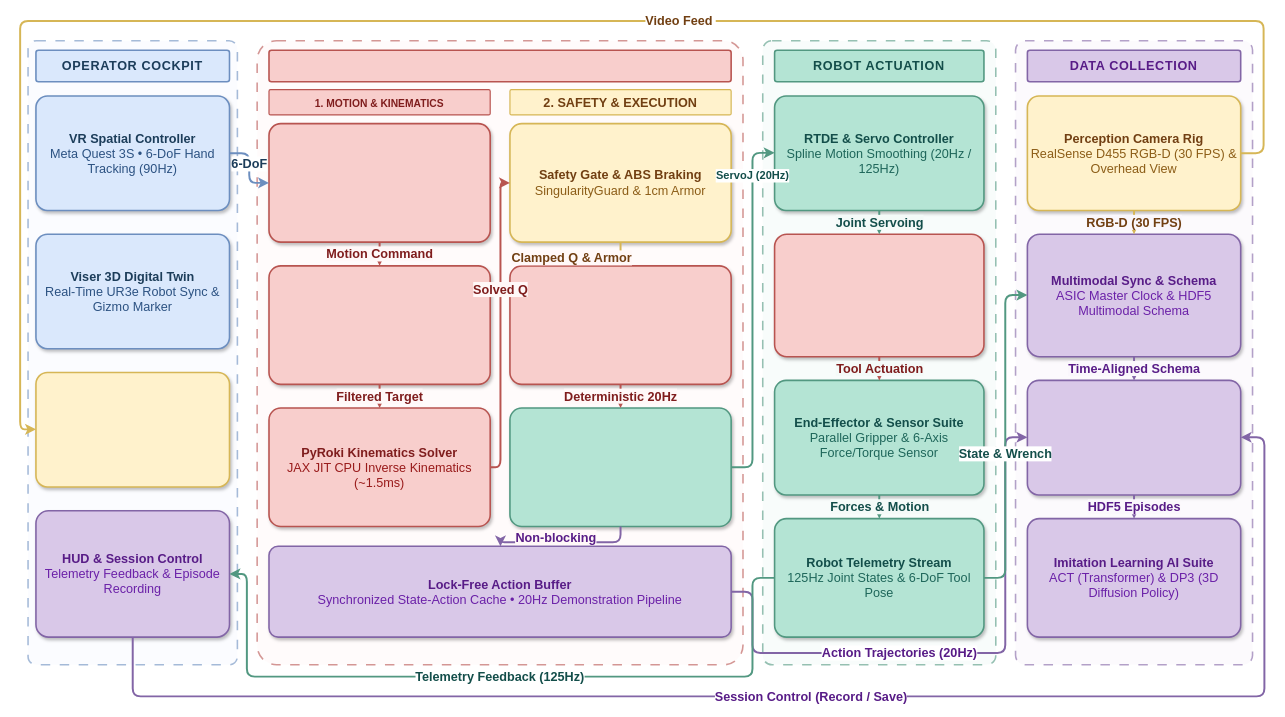
This 1285x717 diagram has some shape labels left out. Here are the shapes that lost their labels. From the top down, the centre of each, then its label:
At (500,65): "TELEOPERATION ENGINE (REAL-TIME CORE)".
At (380,183): "Hand Motion Controller Independent Move & Rotate Control".
At (879,296): "UR3e Collaborative Arm 6-Axis Manipulator • 3kg Payload • 500mm Reach".
At (380,325): "SACD & Anti-Windup Tether Micro-Jitter Filter & Slingshot Barrier".
At (621,325): "Motion Rate & Connection Guard 20Hz Smooth Timing • Auto-Hold on Signal Drop".
At (133,430): "Live Workspace Vision RealSense D455 RGB-D Stream".
At (1134,438): "Recorder & Action Dataset Zero-Loss 20Hz Episode Data Logging".
At (621,468): "Dual-Channel Dispatcher Primary RTDE (30004) & Port 30002 Backup".
